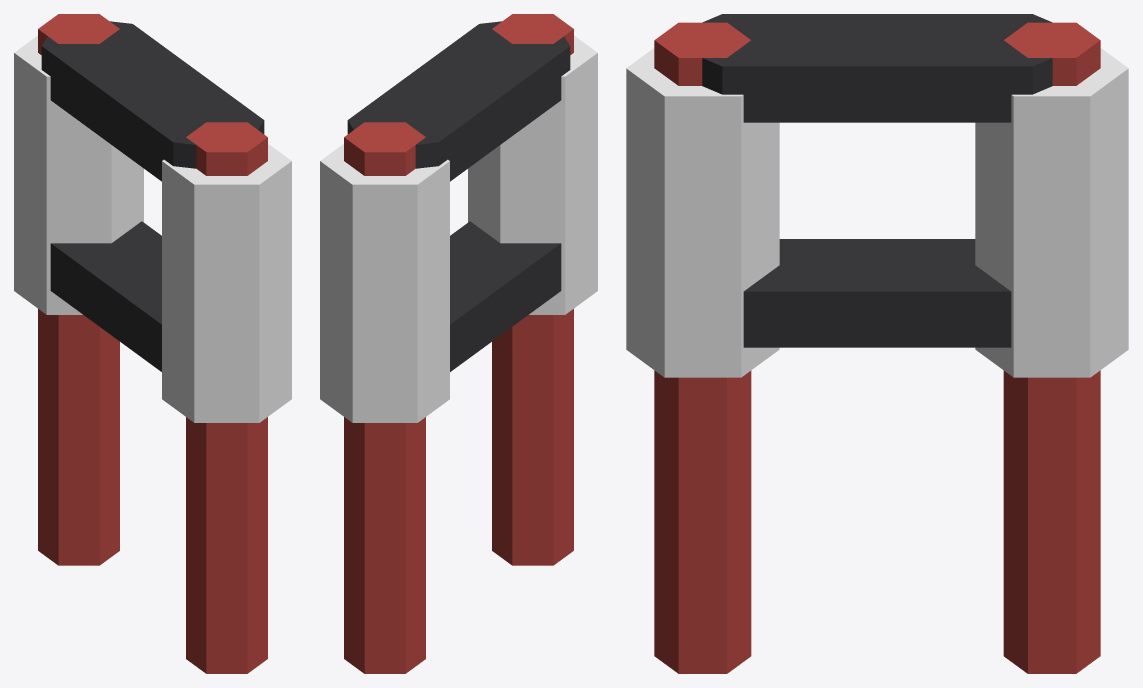
File: cruiser_wide_glide_upper_lod2.glb
3 renders of one model, left to right at view 1: azimuth 30°, elevation 25°; view 2: azimuth 150°, elevation 25°; view 3: azimuth 270°, elevation 25°, orthographic. The views are drawn at different scales.
Parts seen in each view (by area): view 1: cruiser_wide_glide_upper_lod2; view 2: cruiser_wide_glide_upper_lod2; view 3: cruiser_wide_glide_upper_lod2.
Boxes of the visible parts, x1,y1,x2,y2 form: cruiser_wide_glide_upper_lod2: (14,14,291,673); cruiser_wide_glide_upper_lod2: (320,14,597,673); cruiser_wide_glide_upper_lod2: (626,14,1128,673).
Size of the model in its own units: 0.0856 by 0.438 by 0.3238.
